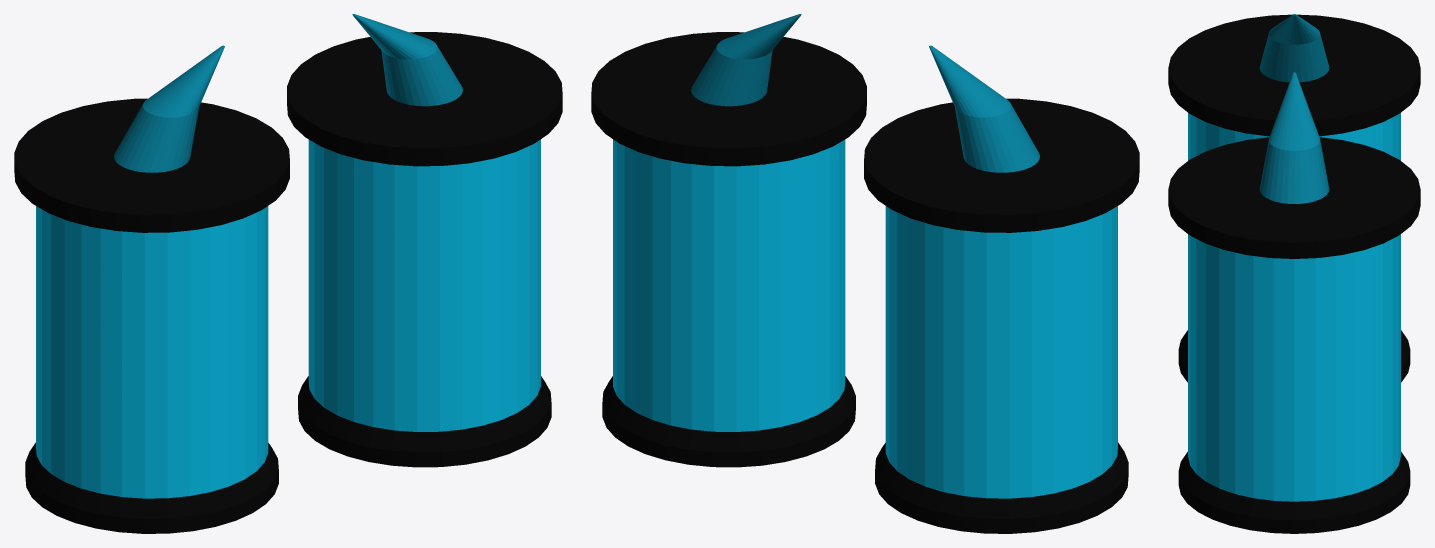
Rendered from CloningDevice.fbx.
The picture shows the model from 3 angles, left to right: view 1: azimuth 30°, elevation 25°; view 2: azimuth 150°, elevation 25°; view 3: azimuth 270°, elevation 25°; orthographic projection. The views are drawn at different scales.
Visible parts, largest first — view 1: Cylinder; view 2: Cylinder; view 3: Cylinder.
Part boxes in pixels (x1,y1,x2,y2): Cylinder: (14, 14, 562, 533); Cylinder: (591, 14, 1139, 533); Cylinder: (1168, 14, 1420, 533).
Bounding box in the file's own units: 507 × 395 × 237.
